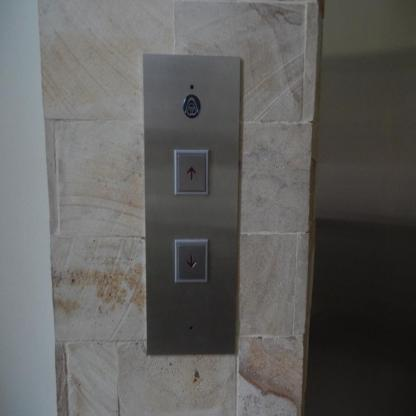down: (173, 239, 208, 282)
up: (172, 147, 208, 194)
